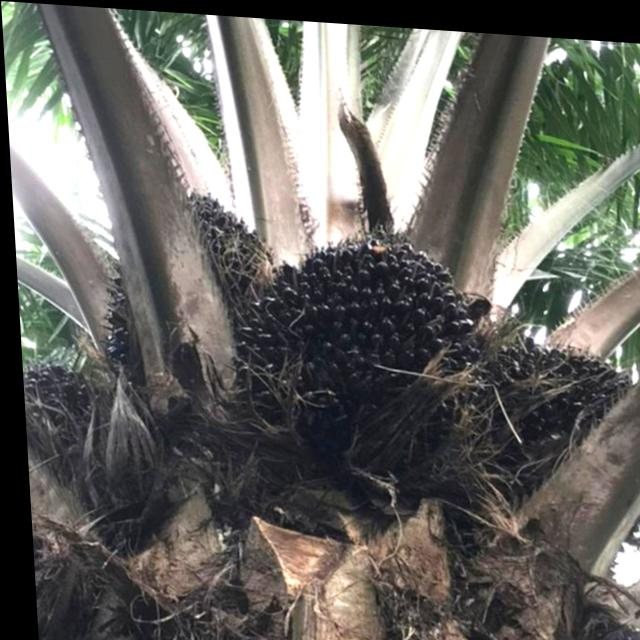almost: (223, 197, 487, 482)
